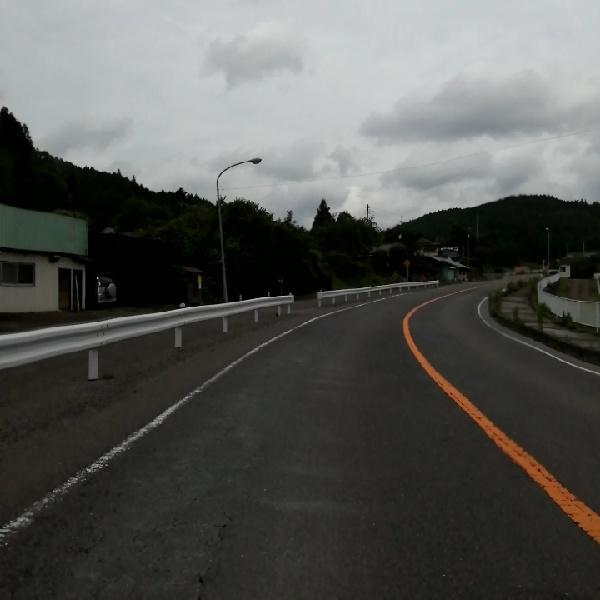D00: (175, 504, 236, 598)
D44: (7, 318, 303, 528)
